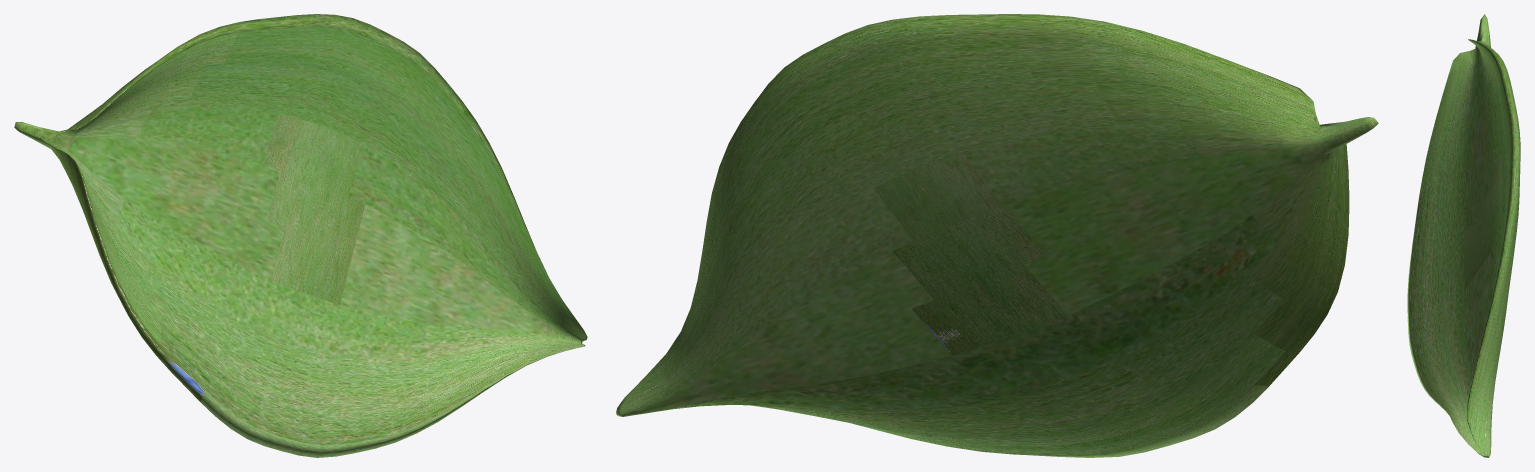
The model's file is rose_1_modify.obj.
3 views of the same model, side by side, from view 1: azimuth 30°, elevation 25°; view 2: azimuth 150°, elevation 25°; view 3: azimuth 270°, elevation 25° (orthographic). The views are drawn at different scales.
Parts seen in each view (by area): view 1: pCube1; view 2: pCube1; view 3: pCube1.
Boxes of the visible parts, x1=… form: pCube1: x1=14, y1=14, x2=587, y2=457; pCube1: x1=616, y1=14, x2=1378, y2=457; pCube1: x1=1407, y1=14, x2=1520, y2=457.
Bounding box in the file's own units: 18.11 × 12.08 × 4.46.
Materials: 1 (1 with a texture image).
